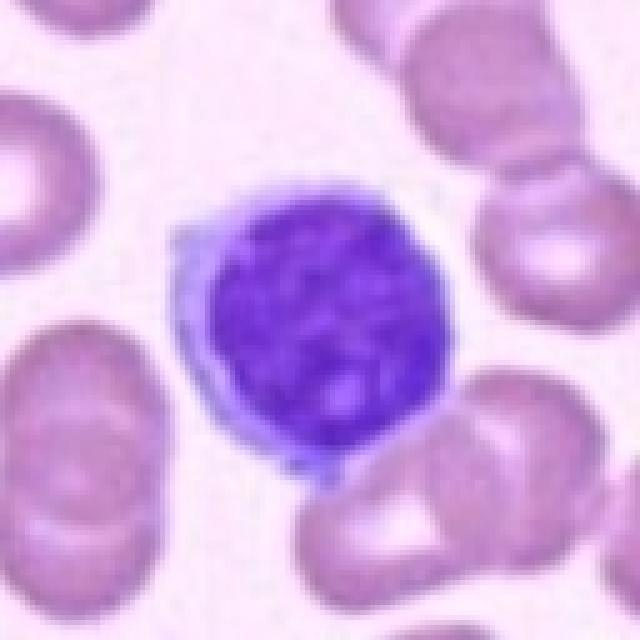lympho: (155, 167, 465, 489)
